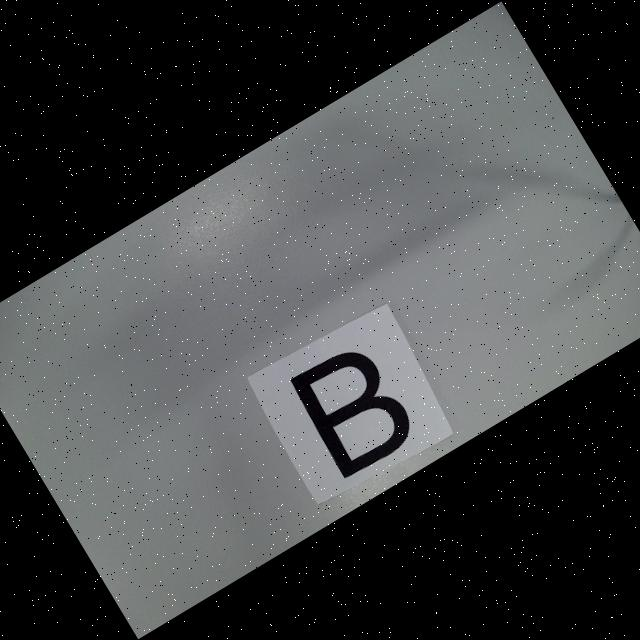FAKE: (287, 336, 422, 482)
